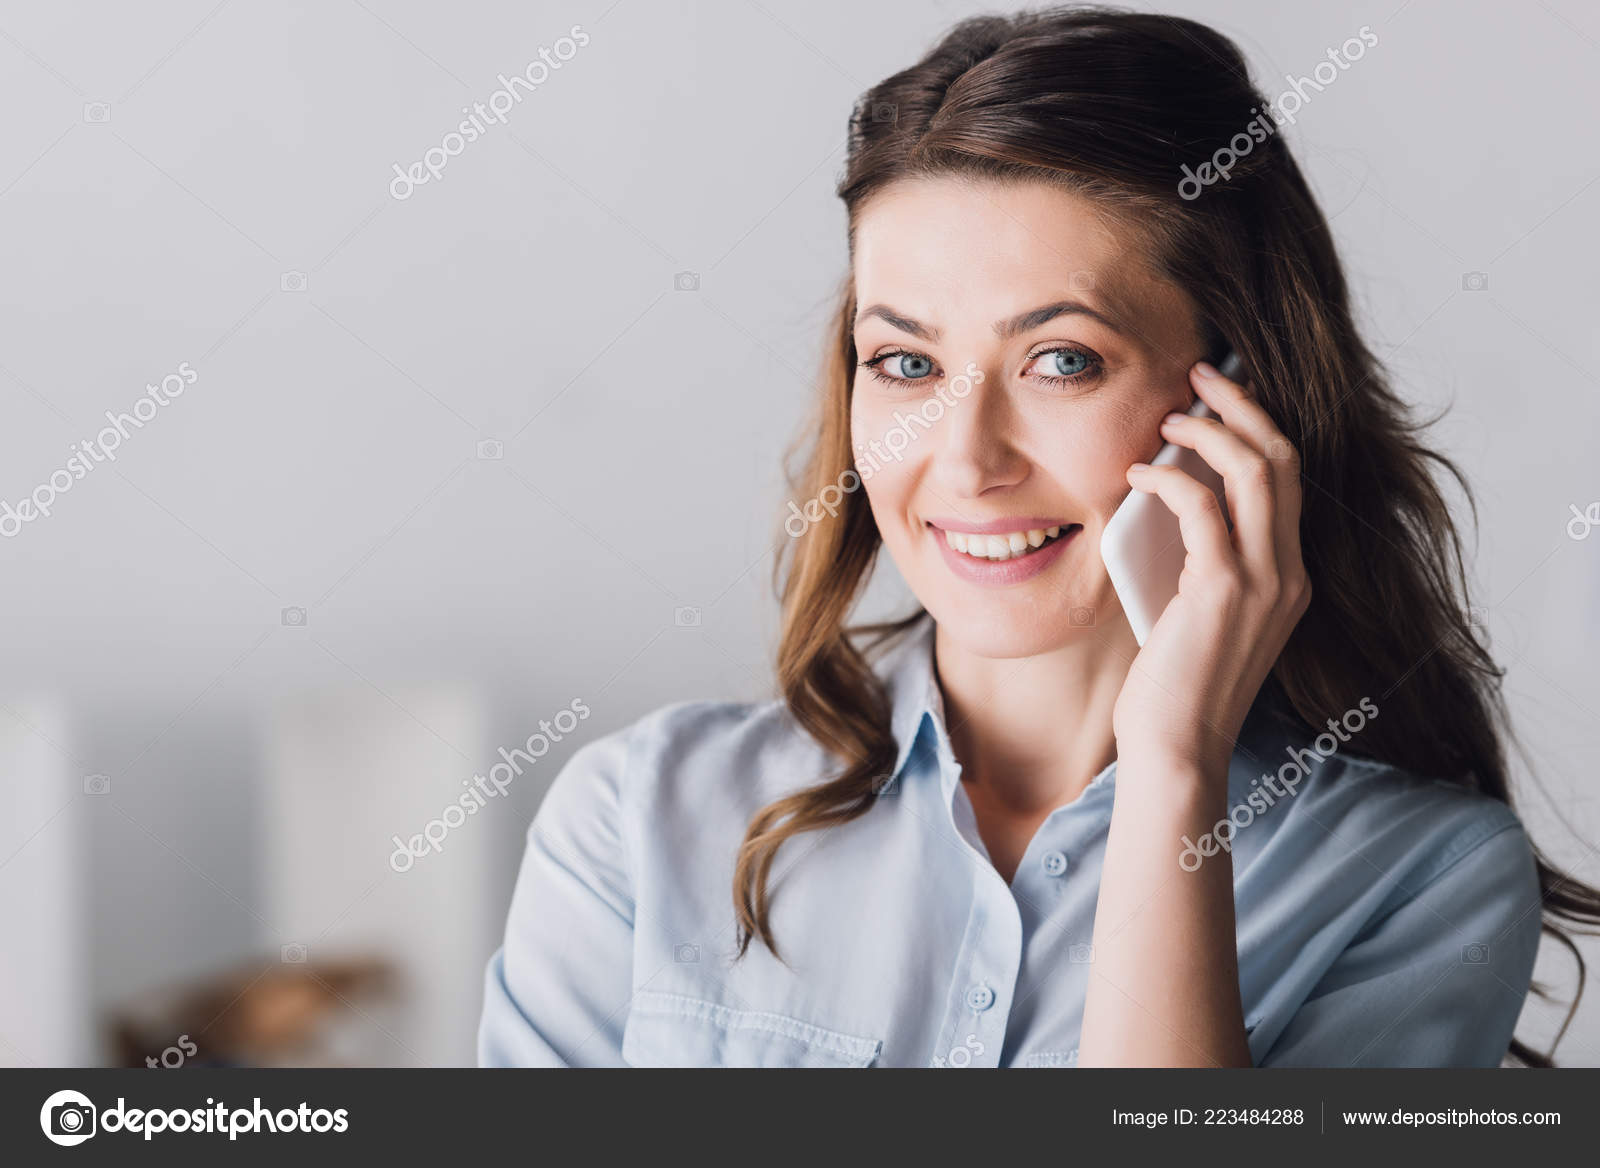phone: (1102, 357, 1329, 659)
talk: (845, 290, 1347, 716)
